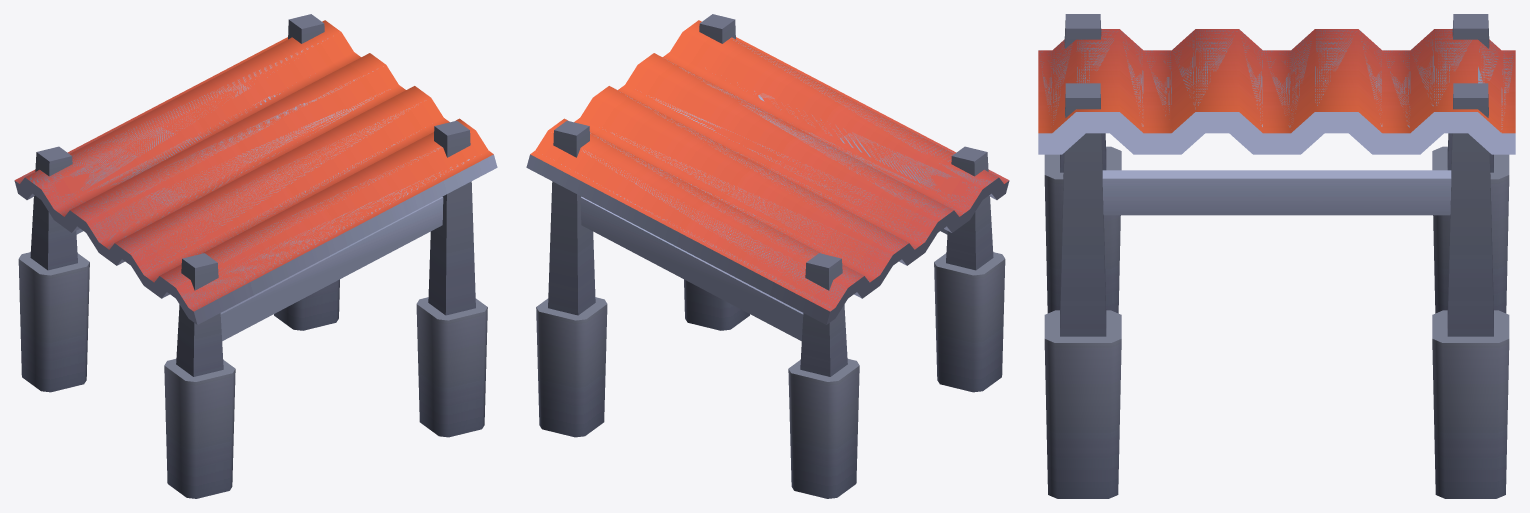
The model's file is structure-metal-roof.glb.
3 renders of one model, left to right at view 1: azimuth 30°, elevation 25°; view 2: azimuth 150°, elevation 25°; view 3: azimuth 270°, elevation 25°, orthographic. The views are drawn at different scales.
Visible parts, largest first — view 1: structure-metal-roof; view 2: structure-metal-roof; view 3: structure-metal-roof.
Boxes of the visible parts, box(x1,y1,x2,y2) form: structure-metal-roof: box(14, 14, 497, 498); structure-metal-roof: box(526, 14, 1009, 498); structure-metal-roof: box(1038, 14, 1515, 498).
Size of the model in its own units: 0.5442 by 0.5 by 0.55.
1 material, 1 textured.
